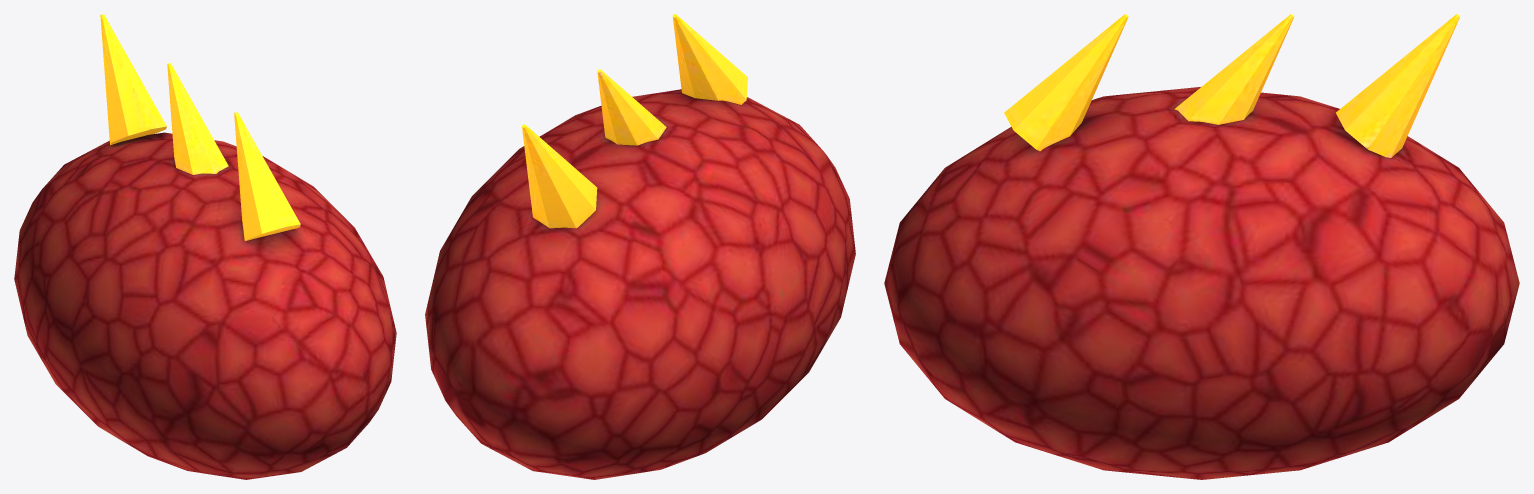
The model's file is dragon_cuerpo.glb.
The picture shows the model from 3 angles, left to right: view 1: azimuth 30°, elevation 25°; view 2: azimuth 150°, elevation 25°; view 3: azimuth 270°, elevation 25°; orthographic projection. The views are drawn at different scales.
Visible parts, largest first — view 1: dragon_cuerpo; view 2: dragon_cuerpo; view 3: dragon_cuerpo.
Boxes of the visible parts, <box> form: dragon_cuerpo: <box>14,14,396,479</box>; dragon_cuerpo: <box>425,14,855,479</box>; dragon_cuerpo: <box>884,14,1519,479</box>.
Size of the model in its own units: 1.36 by 1.63 by 2.11.
1 material, 1 textured.
